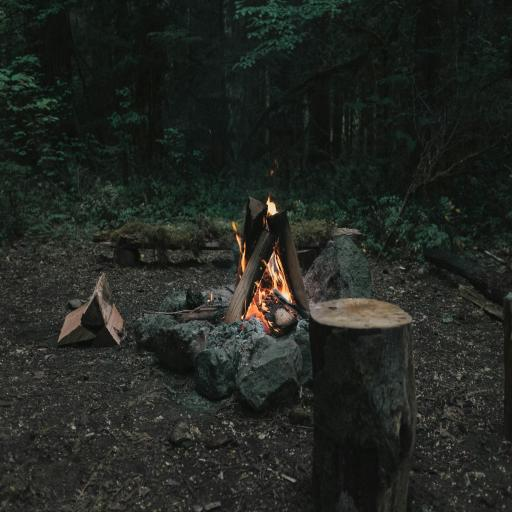campfire: (206, 164, 312, 338)
